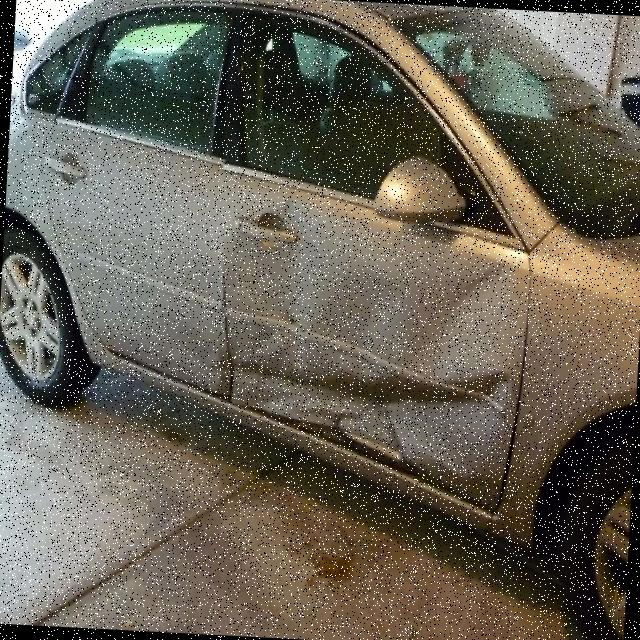Dent: (210, 247, 520, 480)
